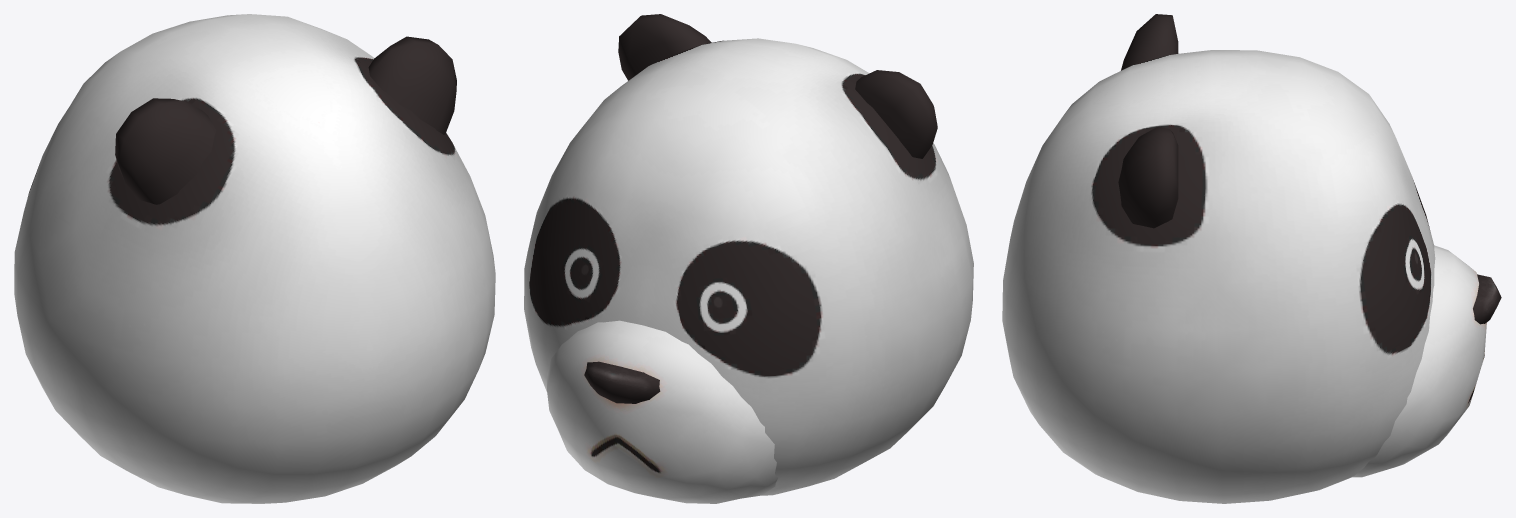
The model's file is Panda.glb.
The picture shows the model from 3 angles, left to right: view 1: azimuth 30°, elevation 25°; view 2: azimuth 150°, elevation 25°; view 3: azimuth 270°, elevation 25°; orthographic projection. The views are drawn at different scales.
Visible parts, largest first — view 1: Panda; view 2: Panda; view 3: Panda.
Boxes of the visible parts, x1,y1,x2,y2 form: Panda: (14,14,495,503); Panda: (524,14,973,503); Panda: (1002,14,1501,503).
Size of the model in its own units: 0.8407 by 0.8402 by 0.9354.
1 material, 1 textured.
